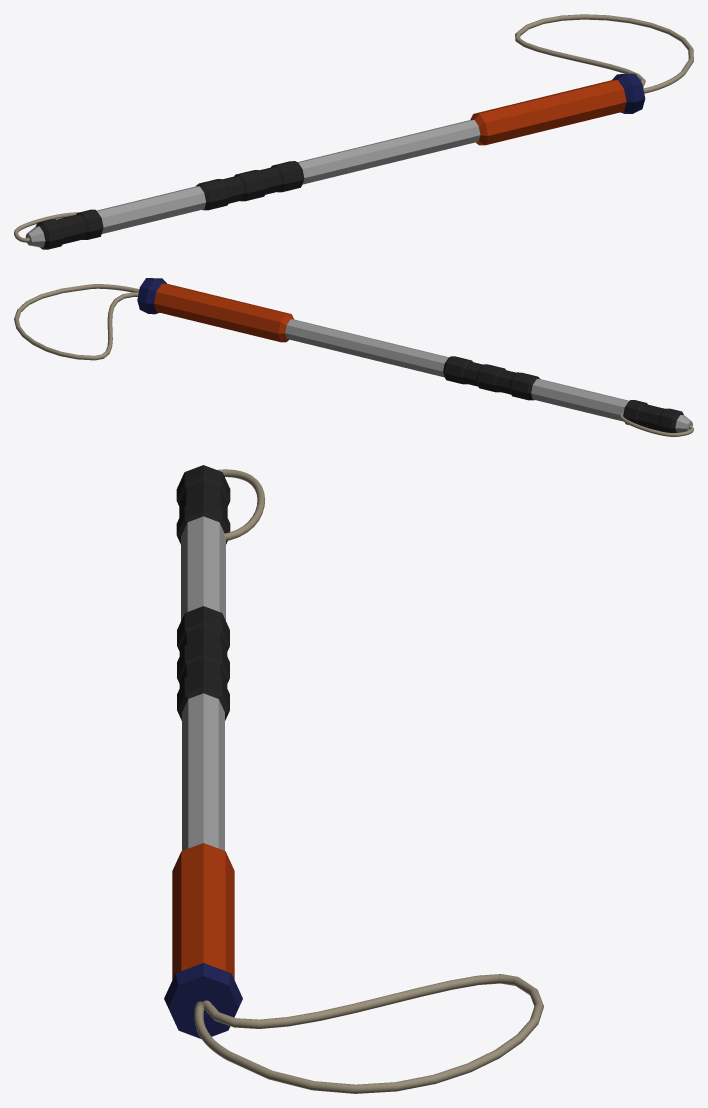
Rendered from Dog_Catching_Stick.fbx.
3 renders of one model, top to bottom at view 1: azimuth 30°, elevation 25°; view 2: azimuth 150°, elevation 25°; view 3: azimuth 270°, elevation 25°, orthographic. The views are drawn at different scales.
Parts seen in each view (by area): view 1: Dog Catcher; view 2: Dog Catcher; view 3: Dog Catcher.
Part boxes in pixels (x1,y1,x2,y2): Dog Catcher: [14, 14, 693, 249]; Dog Catcher: [14, 278, 693, 436]; Dog Catcher: [164, 465, 543, 1093].
Size of the model in its own units: 206 by 11.16 by 53.59.
